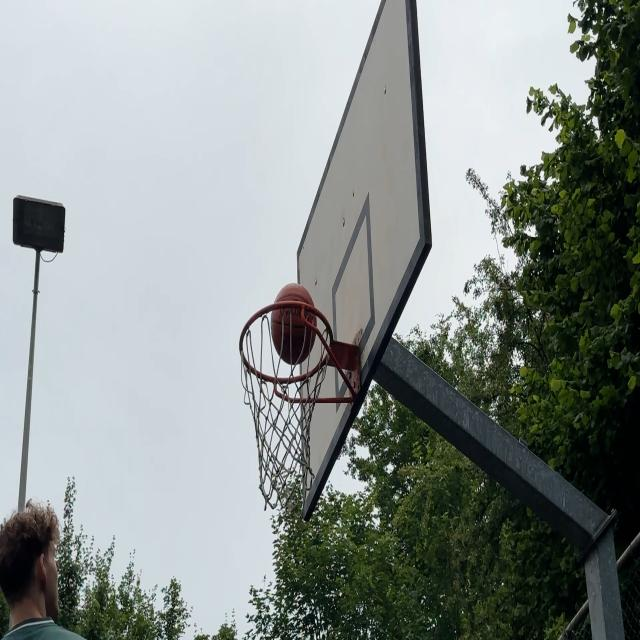rebound_hit: (273, 283, 317, 364)
